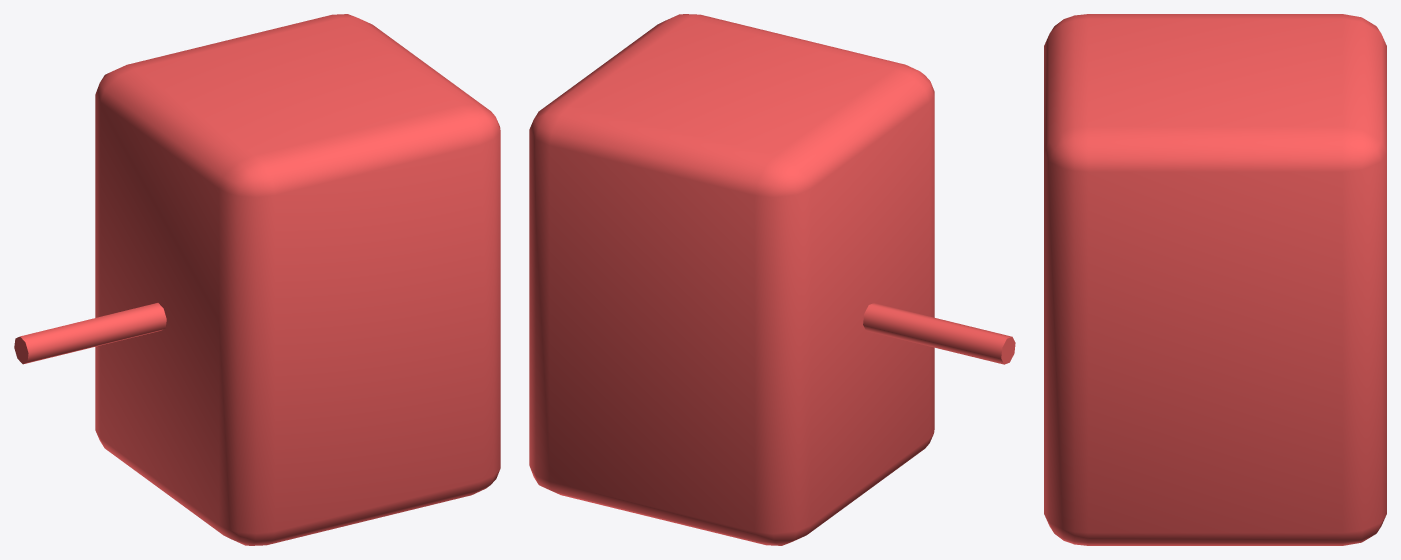
File: obstacle_hammer_hammer_02.FBX
3 views of the same model, side by side, from view 1: azimuth 30°, elevation 25°; view 2: azimuth 150°, elevation 25°; view 3: azimuth 270°, elevation 25° (orthographic). The views are drawn at different scales.
Parts seen in each view (by area): view 1: obstacle_hammer_hammer_02; view 2: obstacle_hammer_hammer_02; view 3: obstacle_hammer_hammer_02.
Part boxes in pixels (left/top/right/bottom): obstacle_hammer_hammer_02: left=14, top=14, right=500, bottom=545; obstacle_hammer_hammer_02: left=529, top=14, right=1015, bottom=545; obstacle_hammer_hammer_02: left=1044, top=14, right=1386, bottom=545.
Bounding box in the file's own units: 9 × 8 × 6.
Materials: 1 (1 with a texture image).
